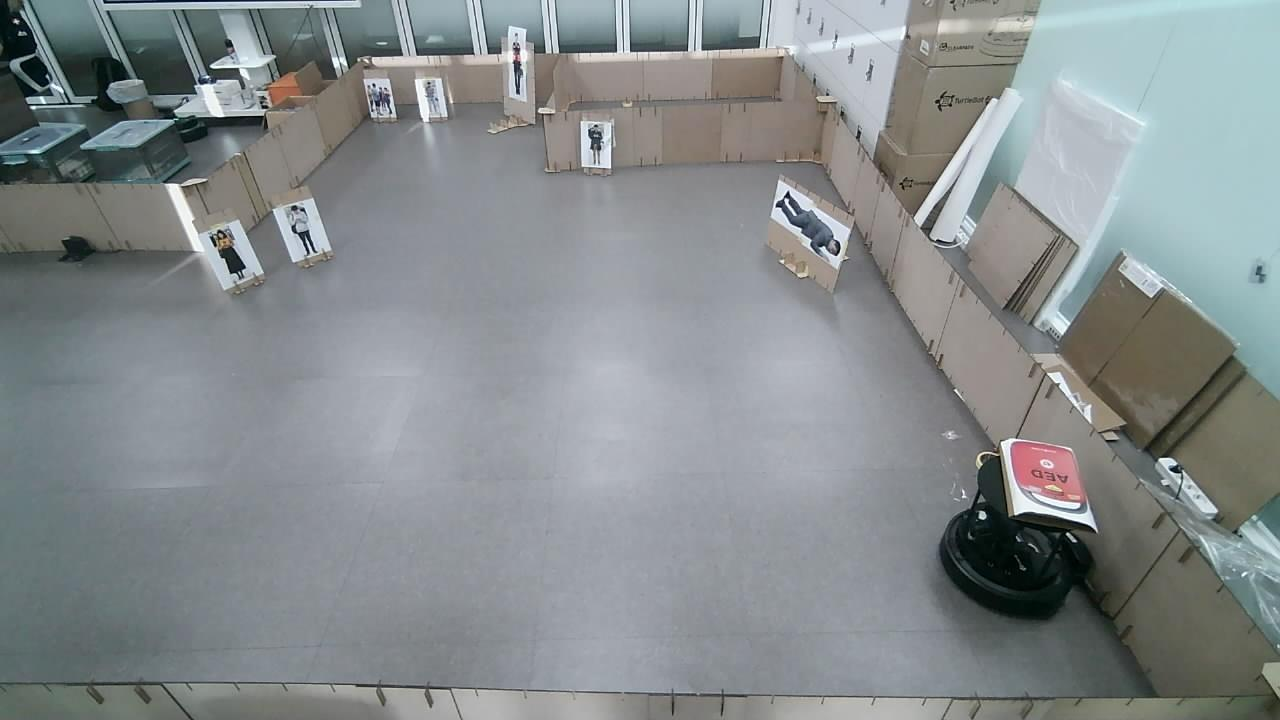AED: (1001, 439, 1095, 531)
Patient: (775, 191, 841, 254)
Responder: (512, 34, 523, 91)
Robot: (939, 458, 1074, 618)
